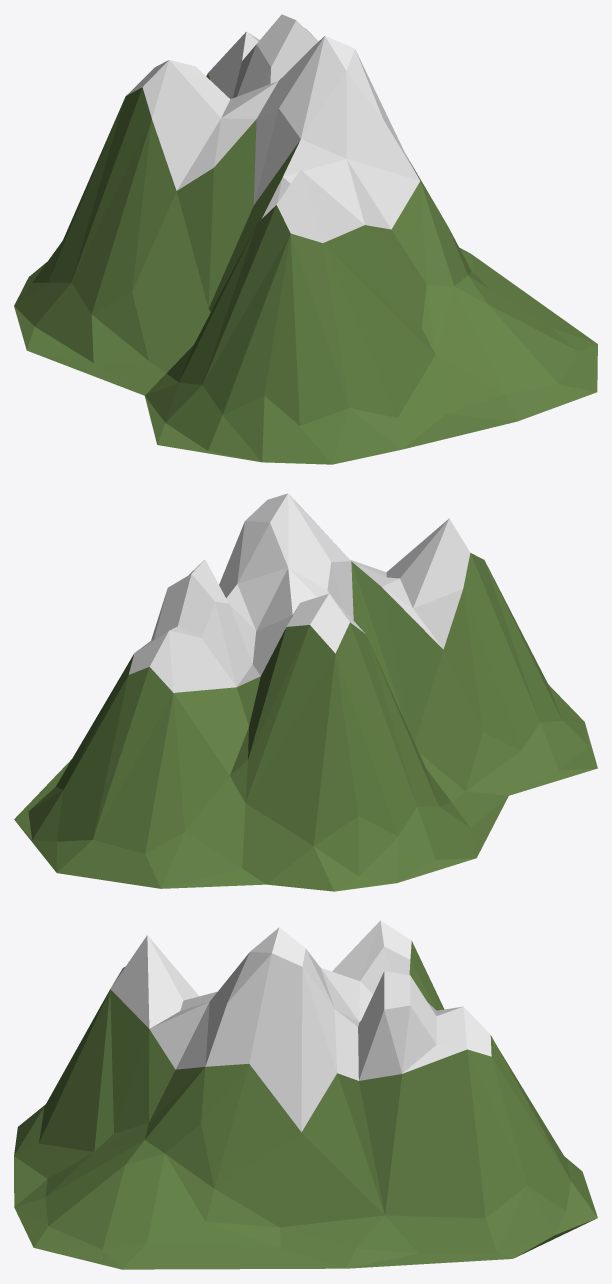
The model's file is Mountains1.fbx.
3 views of the same model, one above another, from view 1: azimuth 30°, elevation 25°; view 2: azimuth 150°, elevation 25°; view 3: azimuth 270°, elevation 25° (orthographic). The views are drawn at different scales.
Parts seen in each view (by area): view 1: Plane; view 2: Plane; view 3: Plane.
Boxes of the visible parts, bbox=[...] form: Plane: bbox=[14, 14, 597, 464]; Plane: bbox=[14, 493, 597, 891]; Plane: bbox=[14, 920, 597, 1269].
Size of the model in its own units: 1329 by 847 by 1717.
